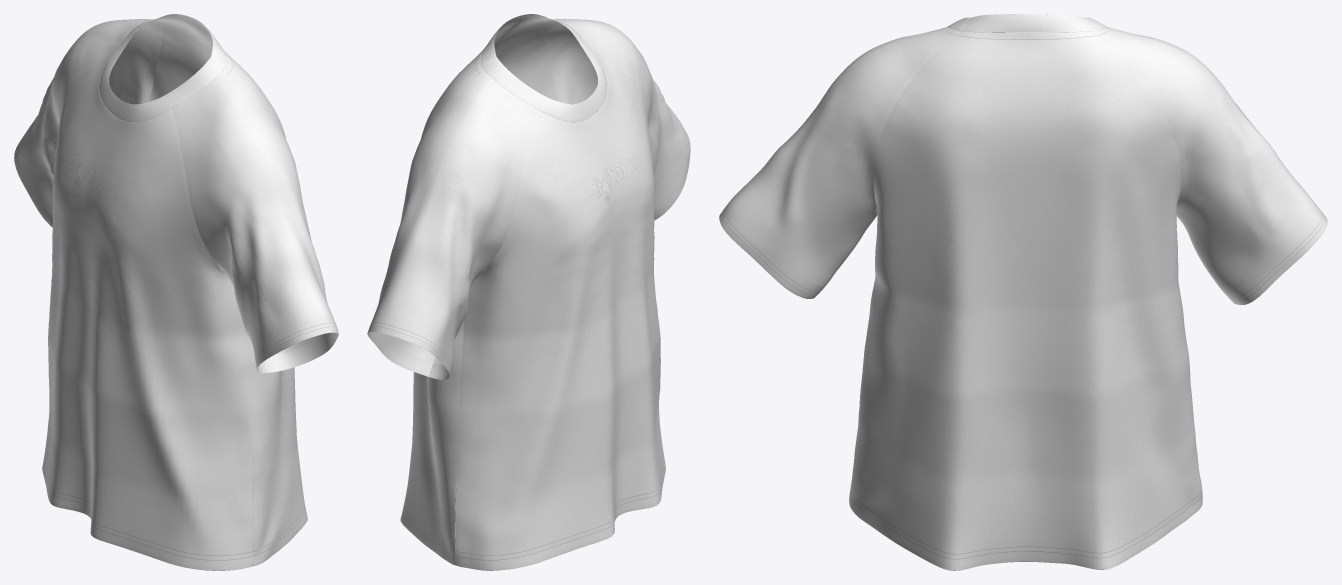
File: Oversize.glb
The picture shows the model from 3 angles, left to right: view 1: azimuth 30°, elevation 25°; view 2: azimuth 150°, elevation 25°; view 3: azimuth 270°, elevation 25°; orthographic projection. The views are drawn at different scales.
Visible parts, largest first — view 1: oversize_base_GEO, oversize_stitches_GEO, PersonalizationFront_GEO; view 2: oversize_base_GEO, oversize_stitches_GEO, PersonalizationFront_GEO; view 3: oversize_base_GEO, oversize_stitches_GEO.
Part boxes in pixels (x1=…): oversize_base_GEO: x1=14, y1=14, x2=338, y2=570; oversize_stitches_GEO: x1=15, y1=57, x2=336, y2=560; PersonalizationFront_GEO: x1=67, y1=152, x2=116, y2=198; oversize_base_GEO: x1=367, y1=14, x2=690, y2=570; oversize_stitches_GEO: x1=369, y1=56, x2=689, y2=560; PersonalizationFront_GEO: x1=590, y1=155, x2=638, y2=203; oversize_base_GEO: x1=719, y1=14, x2=1327, y2=570; oversize_stitches_GEO: x1=722, y1=32, x2=1324, y2=559.
Size of the model in its own units: 0.3129 by 0.7286 by 0.7702.
Materials: 3 (3 with a texture image).
